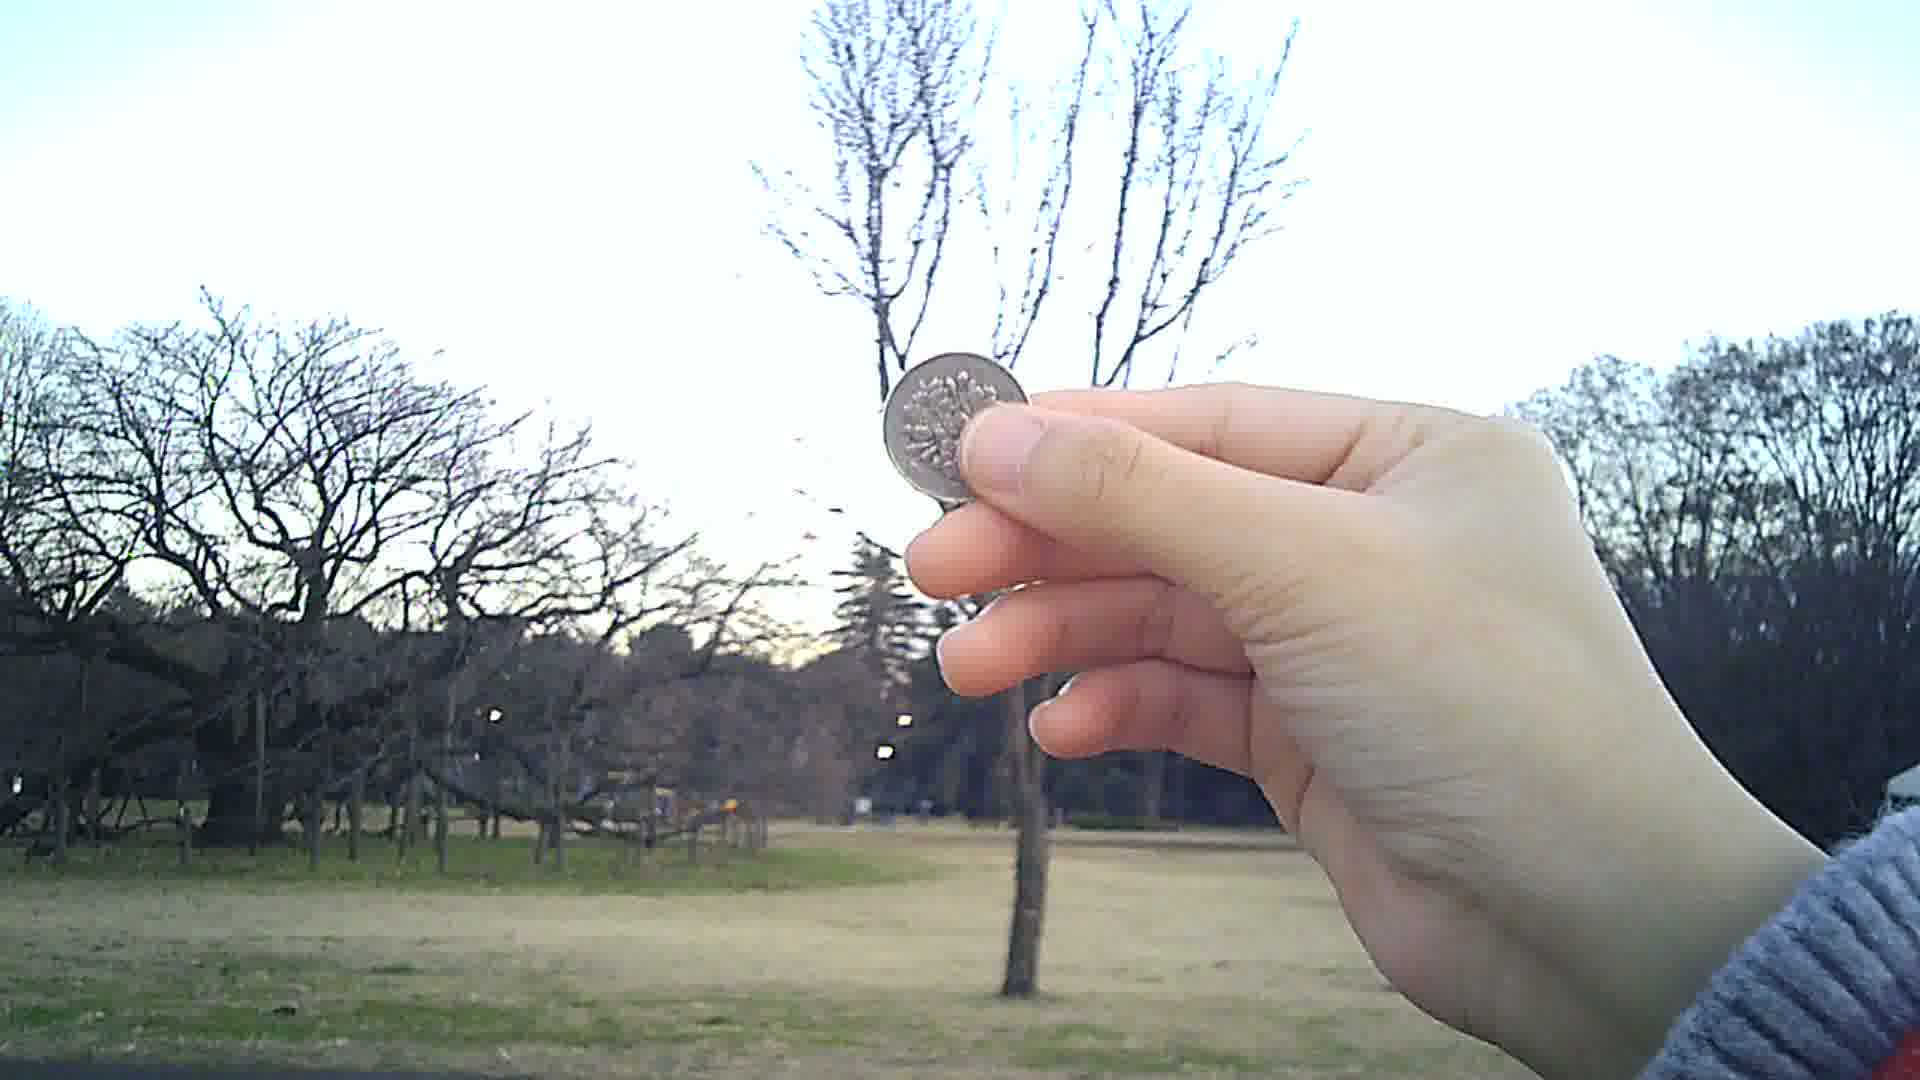100 Yen: (880, 357, 1029, 492)
